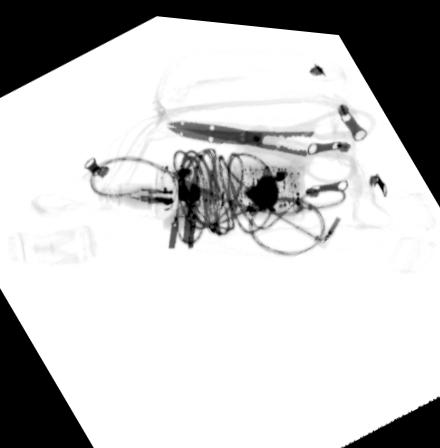Scissors: (166, 99, 379, 177)
